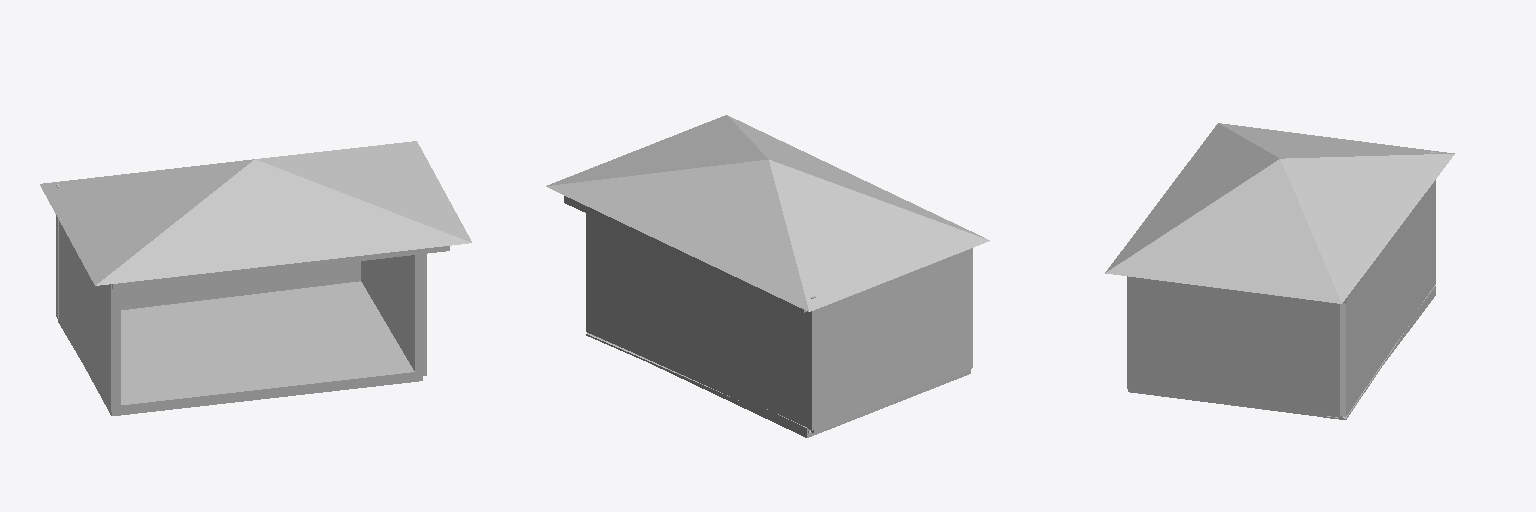
Rendered from stalla.obj.
3 renders of one model, left to right at view 1: azimuth 30°, elevation 25°; view 2: azimuth 150°, elevation 25°; view 3: azimuth 270°, elevation 25°, orthographic.
Visible parts, largest first — view 1: Material22-material.001, Material11-material, Material21-material, Material21-material.003, Material24-material.001, Material21-material.004, Material20-material; view 2: Material22-material.001, Material21-material.002, Material21-material, Material20-material, Material21-material.004, Material11-material; view 3: Material22-material.001, Material21-material.003, Material21-material.002, Material11-material, Material23-material.002.
Part boxes in pixels (x1,y1,x2,y2): Material22-material.001: (40,141,471,285); Material11-material: (85,281,414,415); Material21-material: (58,221,120,411); Material21-material.003: (361,254,426,376); Material24-material.001: (58,219,360,318); Material21-material.004: (112,372,422,415); Material20-material: (113,246,449,289); Material22-material.001: (546,115,989,311); Material21-material.002: (586,213,815,430); Material21-material: (811,248,972,432); Material20-material: (564,196,803,312); Material21-material.004: (639,355,806,437); Material11-material: (767,369,970,437); Material22-material.001: (1105,123,1454,303); Material21-material.003: (1127,276,1339,414); Material21-material.002: (1346,180,1435,415); Material11-material: (1128,286,1434,417); Material23-material.002: (1340,303,1345,416).
Size of the model in its own units: 12.76 by 6.16 by 10.1.